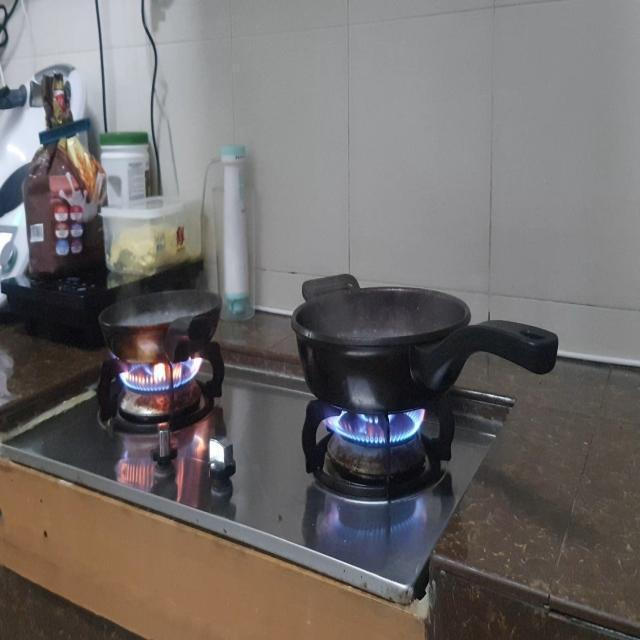smoke: (325, 393, 428, 448), (116, 352, 204, 394)
